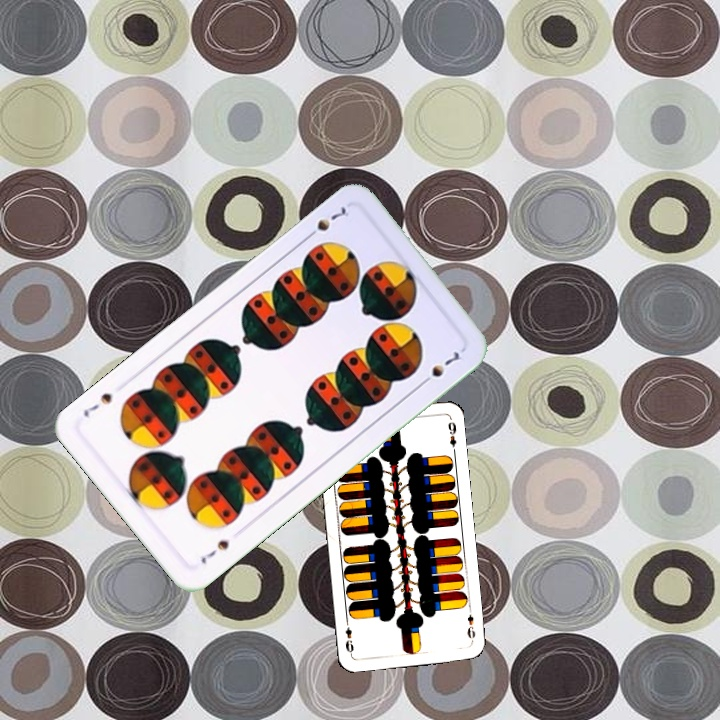E9: (463, 604, 478, 644)
S7: (301, 202, 352, 243), (196, 536, 232, 567)
